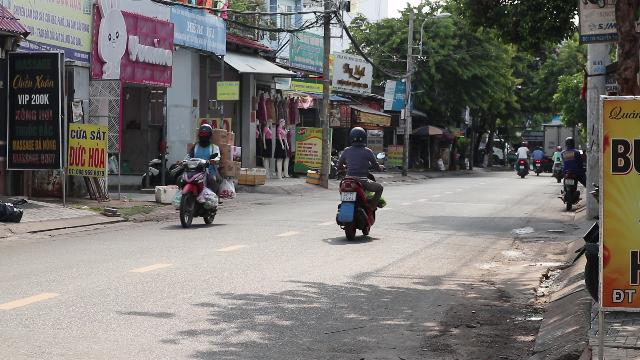helmet: (348, 126, 368, 146), (196, 122, 212, 146)
licenseplate: (340, 192, 356, 200)
motorcyclist: (172, 123, 238, 229), (334, 126, 386, 238)
